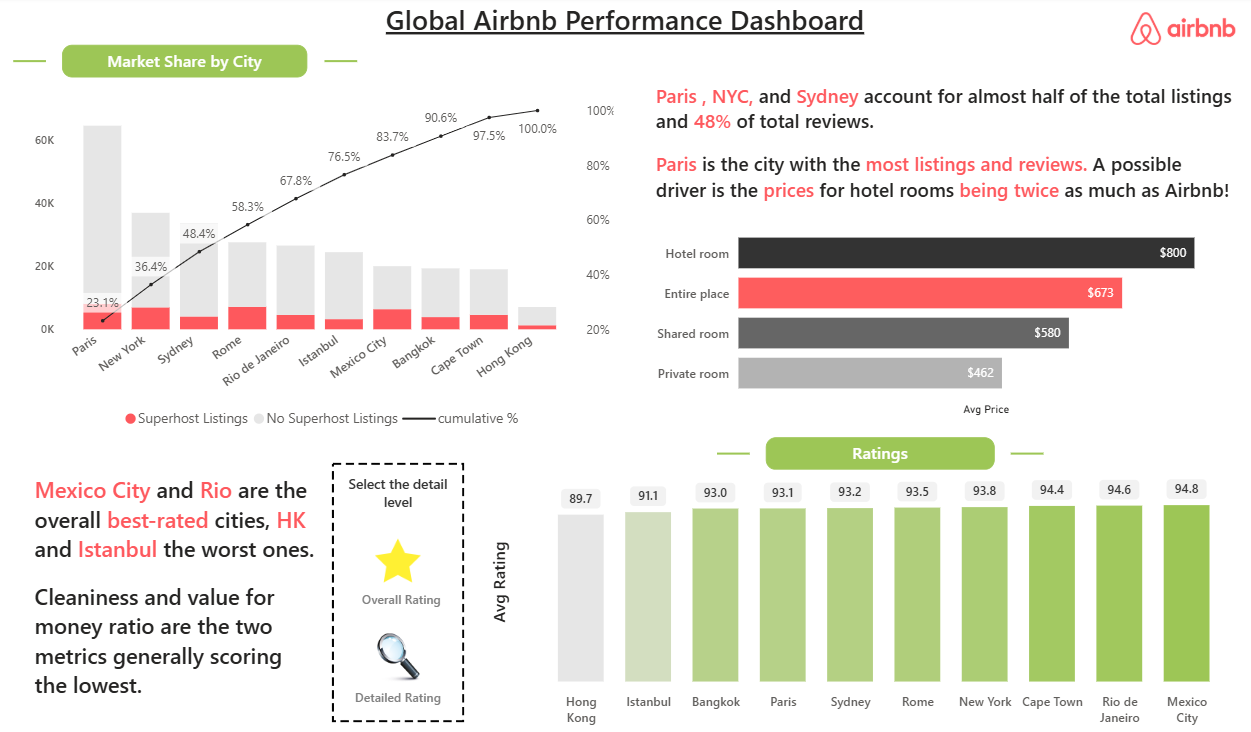

This screenshot's page, from the dashboard's own definition file:
{"tool":"powerbi","page":{"name":"Ratings","canvas":[1230,720],"ordinal":1},"visuals":[{"type":"textbox","box":[375,0,480,48],"z":0},{"type":"image","box":[1104,16,112,32],"z":1000},{"type":"textbox","box":[64,48,240,32],"z":2000},{"type":"lineStackedColumnComboChart","fields":{"Category":["Listings.city"],"Y":["Listings.Superhost Listings","Listings.No Superhost Listings"],"Y2":["Listings.cumulative %"]},"box":[32,96,576,336],"z":3000},{"type":"barChart","fields":{"Category":["Listings.room_type"],"Y":["Listings.Avg Price"]},"box":[640,208,576,208],"z":4000},{"type":"textbox","box":[640,80,576,128],"z":5000},{"type":"textbox","box":[752,432,224,32],"z":6000},{"type":"shape","box":[992,432,32,32],"z":7000},{"type":"shape","box":[704,432,32,32],"z":8000},{"type":"shape","box":[16,48,32,32],"z":9000},{"type":"shape","box":[320,48,32,32],"z":10000},{"type":"columnChart","fields":{"Category":["Listings.city"],"Y":["Listings.Avg Rating"]},"box":[480,464,736,256],"z":12000},{"type":"image","box":[320,448,144,272],"z":13000},{"type":"textbox","box":[336,464,112,48],"z":14000},{"type":"group","id":"g1","title":"Group 1","box":[352,528,96,80],"z":15000},{"type":"image","box":[352,528,80,48],"z":15000,"group":"g1"},{"type":"group","id":"g2","title":"Group 2","box":[336,624,128,80],"z":16000},{"type":"image","box":[352,624,80,48],"z":16000,"group":"g2"},{"type":"textbox","box":[32,464,288,256],"z":17000},{"type":"textbox","box":[352,576,96,32],"z":18000,"group":"g1"},{"type":"textbox","box":[336,672,112,32],"z":18001,"group":"g2"}]}

Visuals, with their boxes in screenshot pixels (x1, y1, x2, y2), scaled from the page's 1230x720 canvas onto the 1251x732 screenshot:
textbox: box(381, 0, 870, 49)
image: box(1123, 16, 1237, 49)
textbox: box(65, 49, 309, 81)
lineStackedColumnComboChart - Listings.city x Listings.Superhost Listings: box(33, 98, 618, 439)
barChart - Listings.room_type x Listings.Avg Price: box(651, 211, 1237, 423)
textbox: box(651, 81, 1237, 211)
textbox: box(765, 439, 993, 472)
shape: box(1009, 439, 1041, 472)
shape: box(716, 439, 749, 472)
shape: box(16, 49, 49, 81)
shape: box(325, 49, 358, 81)
columnChart - Listings.city x Listings.Avg Rating: box(488, 472, 1237, 731)
image: box(325, 455, 472, 731)
textbox: box(342, 472, 456, 521)
"Group 1" group: box(358, 537, 456, 618)
image: box(358, 537, 439, 586)
"Group 2" group: box(342, 634, 472, 716)
image: box(358, 634, 439, 683)
textbox: box(33, 472, 325, 731)
textbox: box(358, 586, 456, 618)
textbox: box(342, 683, 456, 716)
